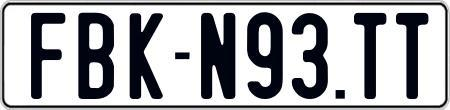3: (291, 12, 329, 101)
9: (246, 11, 285, 103)
B: (75, 10, 115, 99)
F: (31, 10, 65, 100)
K: (127, 11, 161, 99)
N: (201, 13, 239, 99)
T: (393, 11, 428, 100), (353, 12, 387, 102)
